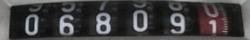digits: (201, 1, 222, 36), (94, 0, 112, 35), (58, 1, 77, 34), (132, 0, 150, 32), (169, 1, 185, 34), (24, 13, 38, 35)
